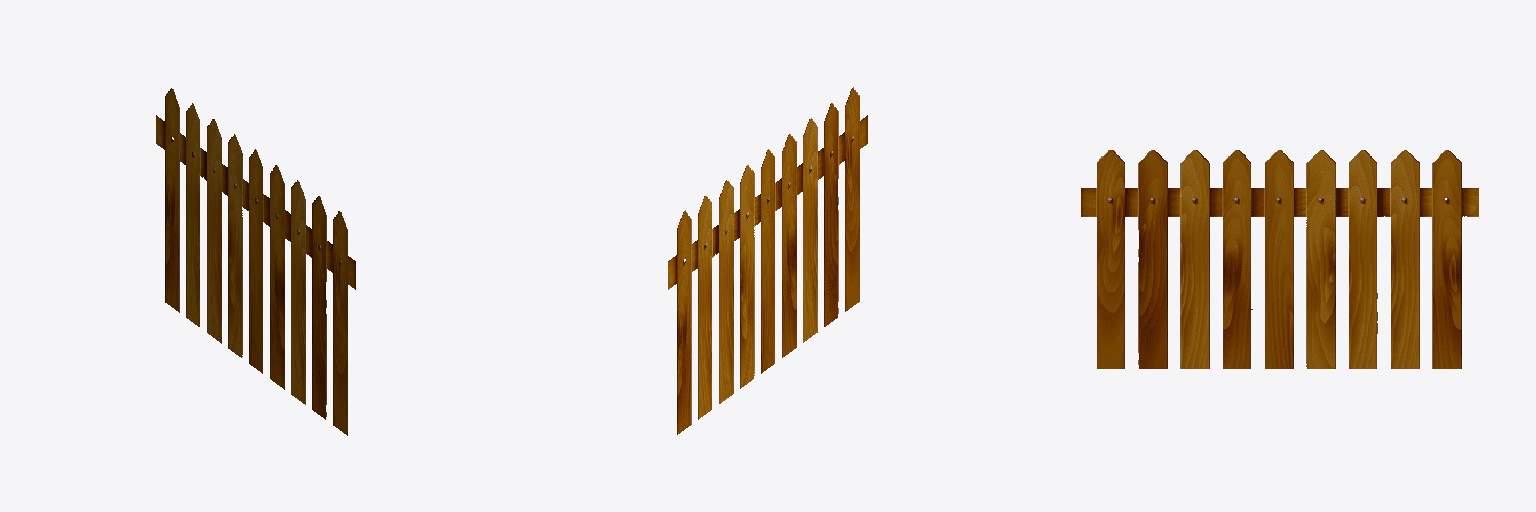
3 views of the same model, side by side, from view 1: azimuth 30°, elevation 25°; view 2: azimuth 150°, elevation 25°; view 3: azimuth 270°, elevation 25° (orthographic).
Parts seen in each view (by area): view 1: Plane; view 2: Plane; view 3: Plane.
Part boxes in pixels (bbox=[...]): Plane: bbox=[156, 88, 355, 435]; Plane: bbox=[668, 87, 867, 434]; Plane: bbox=[1081, 150, 1478, 368].
Bounding box in the file's own units: 0 × 2 × 3.17.
1 materials, 1 textured.